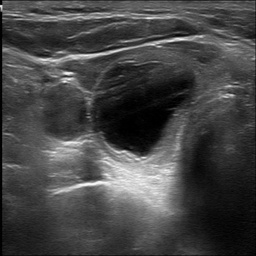mass: (96, 59, 195, 153)
